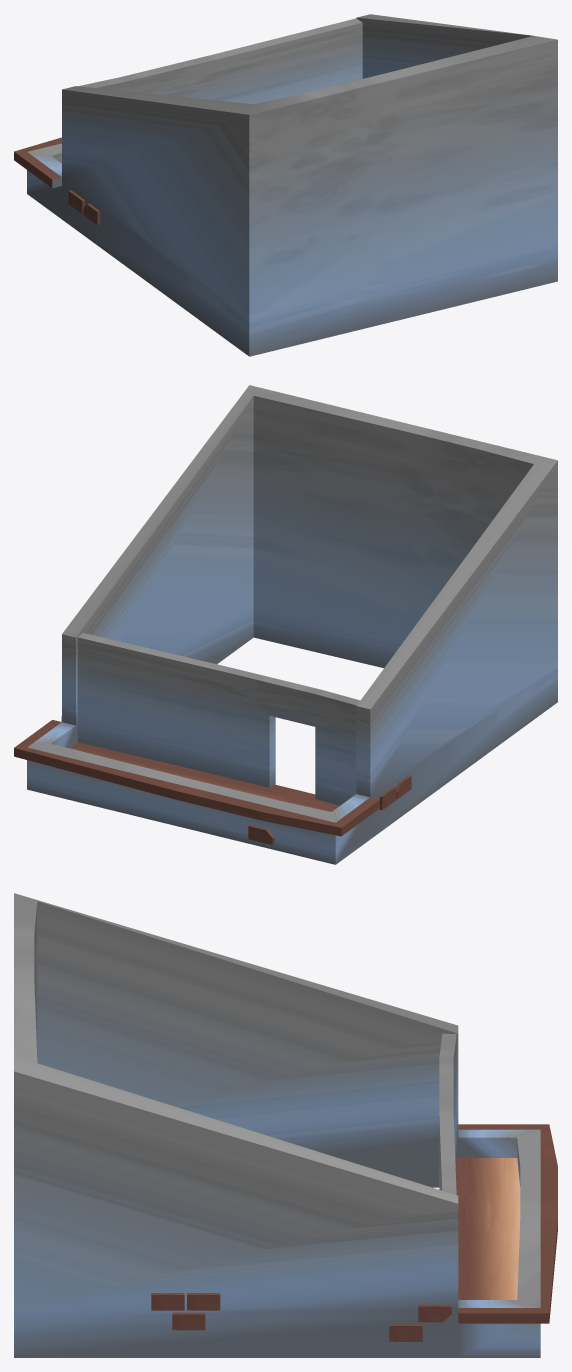
The model's file is Building_Top_2.fbx.
The picture shows the model from 3 angles, top to bottom: view 1: azimuth 30°, elevation 25°; view 2: azimuth 150°, elevation 25°; view 3: azimuth 270°, elevation 25°; orthographic projection. The views are drawn at different scales.
Visible parts, largest first — view 1: Building_Top_2; view 2: Building_Top_2; view 3: Building_Top_2.
Boxes of the visible parts, <box> form: Building_Top_2: <box>14,14,557,356</box>; Building_Top_2: <box>14,385,557,864</box>; Building_Top_2: <box>14,893,557,1357</box>.
Bounding box in the file's own units: 563 × 397 × 684.
